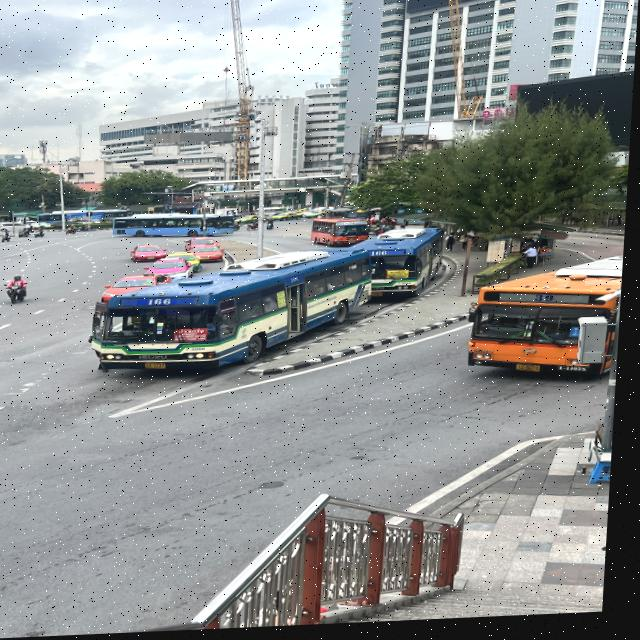BMTA-bus: (94, 250, 379, 375), (469, 266, 627, 389), (354, 232, 450, 306), (115, 212, 241, 243), (64, 209, 137, 224)
Bus-Line-Number: (533, 298, 563, 310), (148, 299, 180, 308), (373, 253, 394, 260)
Destination-Sign-Extra-Bus: (179, 329, 212, 345)
Destination-Sign-Normal: (573, 333, 584, 343)
Destination-Sign-Normal-Expressway: (389, 274, 414, 283)
